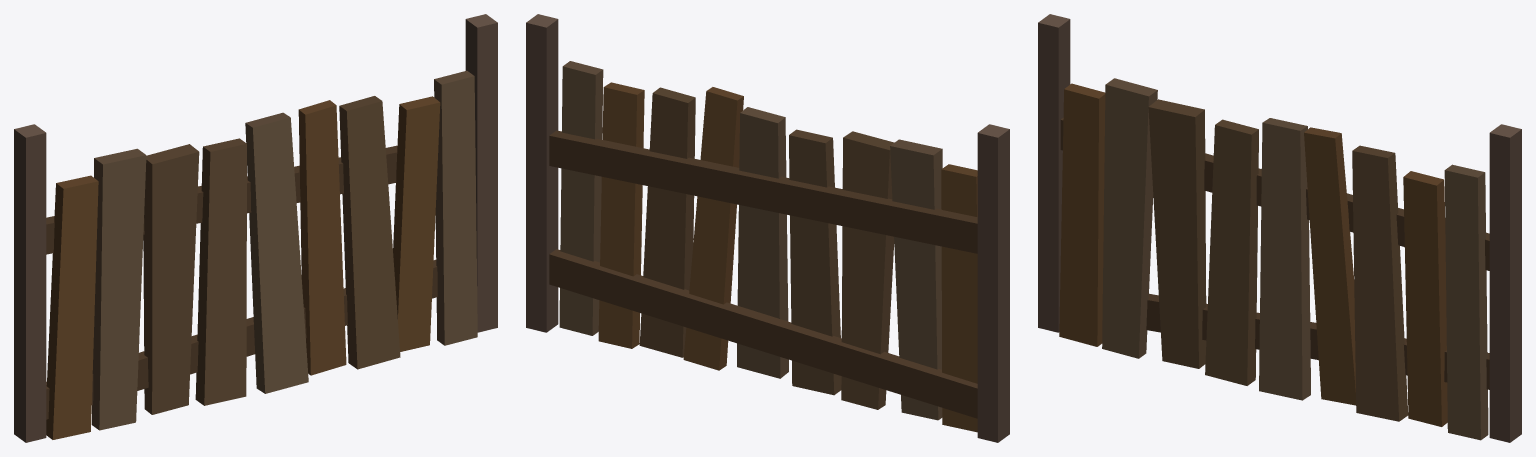
Rendered from Fence_A2.fbx.
The picture shows the model from 3 angles, left to right: view 1: azimuth 30°, elevation 25°; view 2: azimuth 150°, elevation 25°; view 3: azimuth 330°, elevation 25°; orthographic projection.
Visible parts, largest first — view 1: Fence_A2; view 2: Fence_A2; view 3: Fence_A2.
Boxes of the visible parts, x1,y1,x2,y2 form: Fence_A2: (14, 14, 497, 442); Fence_A2: (526, 14, 1009, 442); Fence_A2: (1038, 14, 1521, 442).
Size of the model in its own units: 601 by 374 by 46.48.
1 material, 1 textured.
